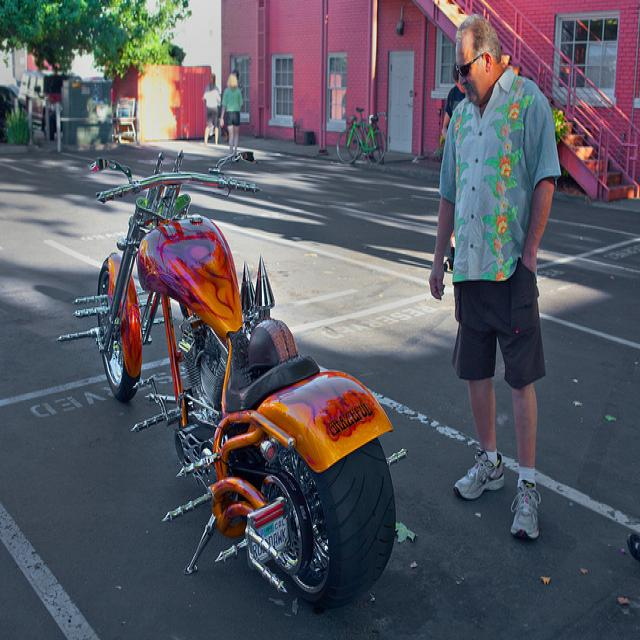motor: (56, 148, 392, 615)
